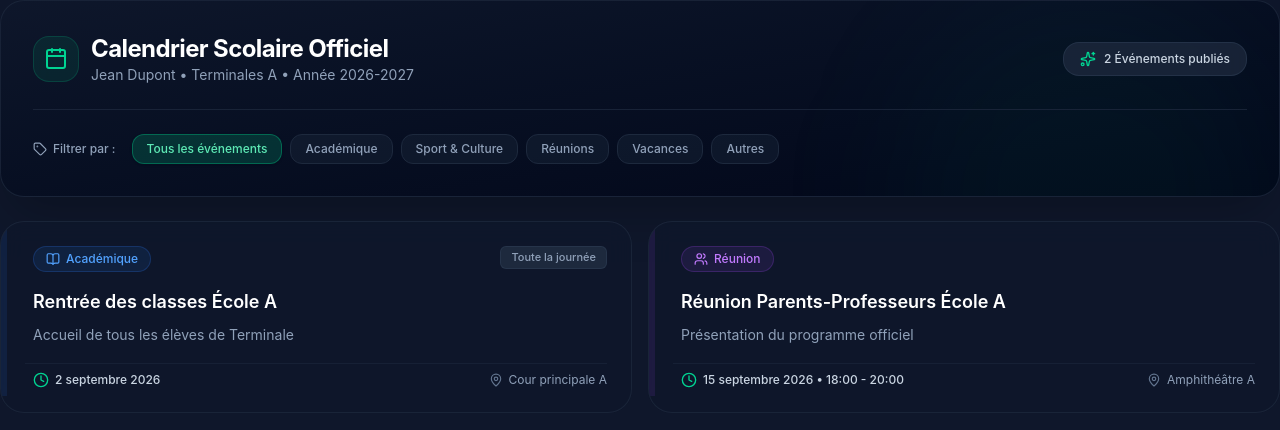
Test: Lot 2E-V2 — Tests Réels de Composant React: ParentCalendarModule › 6. Les filtres par catégorie d’événement fonctionnent correctement
expect the heading "Rentrée des classes École A" is shown: met, box [33, 291, 277, 312]
Click the button "Réunions" at (568,149), box [526, 134, 609, 164]
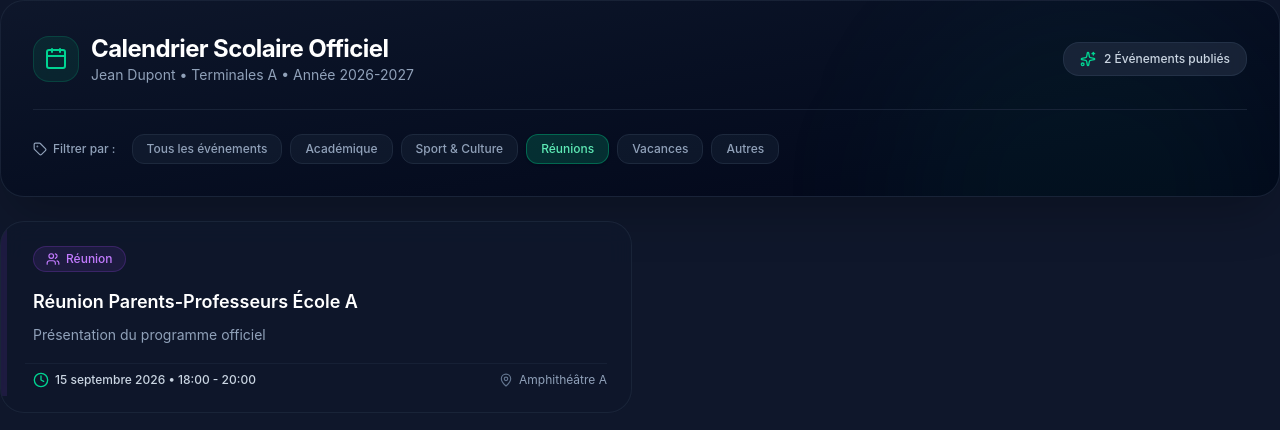
expect the heading "Réunion Parents-Professeurs École A" is shown: met, box [33, 291, 358, 312]
expect the heading "Rentrée des classes École A" is gone: met
